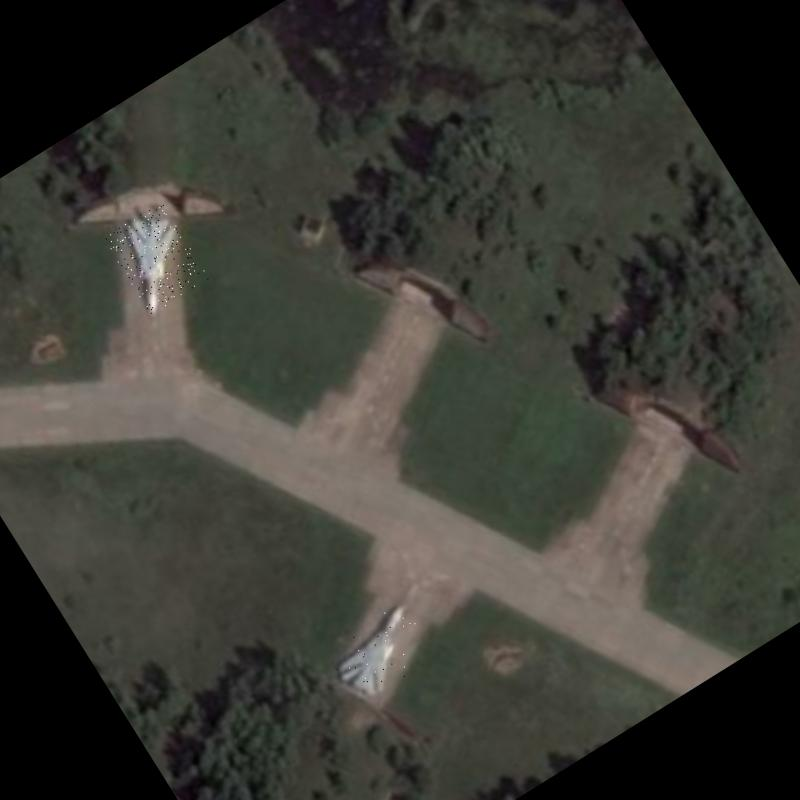A20: (103, 201, 210, 315), (324, 602, 437, 706)
